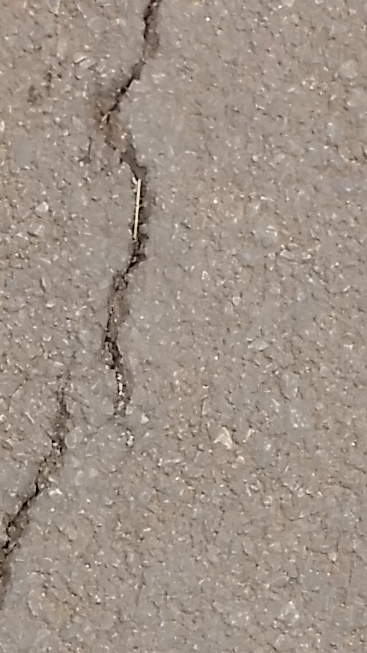A: (5, 1, 203, 586)
